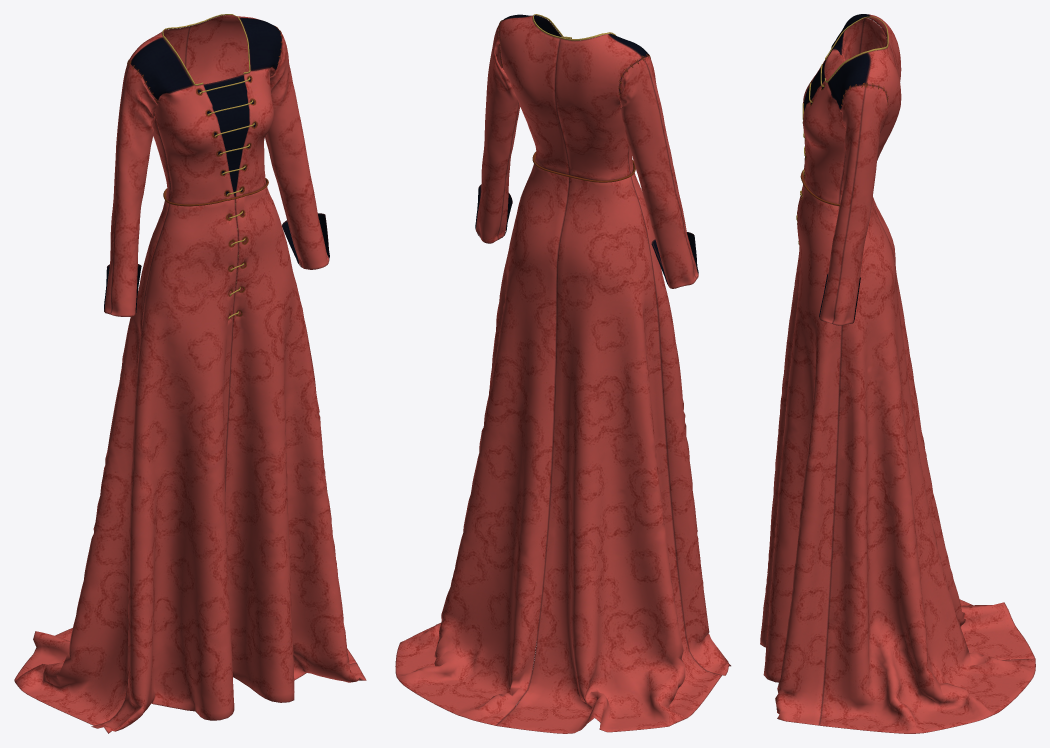
The model's file is gown-red-renaissance.glb.
3 views of the same model, side by side, from view 1: azimuth 30°, elevation 25°; view 2: azimuth 150°, elevation 25°; view 3: azimuth 270°, elevation 25° (orthographic). The views are drawn at different scales.
Visible parts, largest first — view 1: defaultMaterial (×2); view 2: defaultMaterial (×2); view 3: defaultMaterial (×2).
Part boxes in pixels (x1,y1,x2,y2): defaultMaterial (×2): (14, 14, 366, 733); defaultMaterial (×2): (395, 14, 730, 733); defaultMaterial (×2): (760, 14, 1035, 733).
Size of the model in its own units: 752 by 1569 by 621.
1 material, 1 textured.
